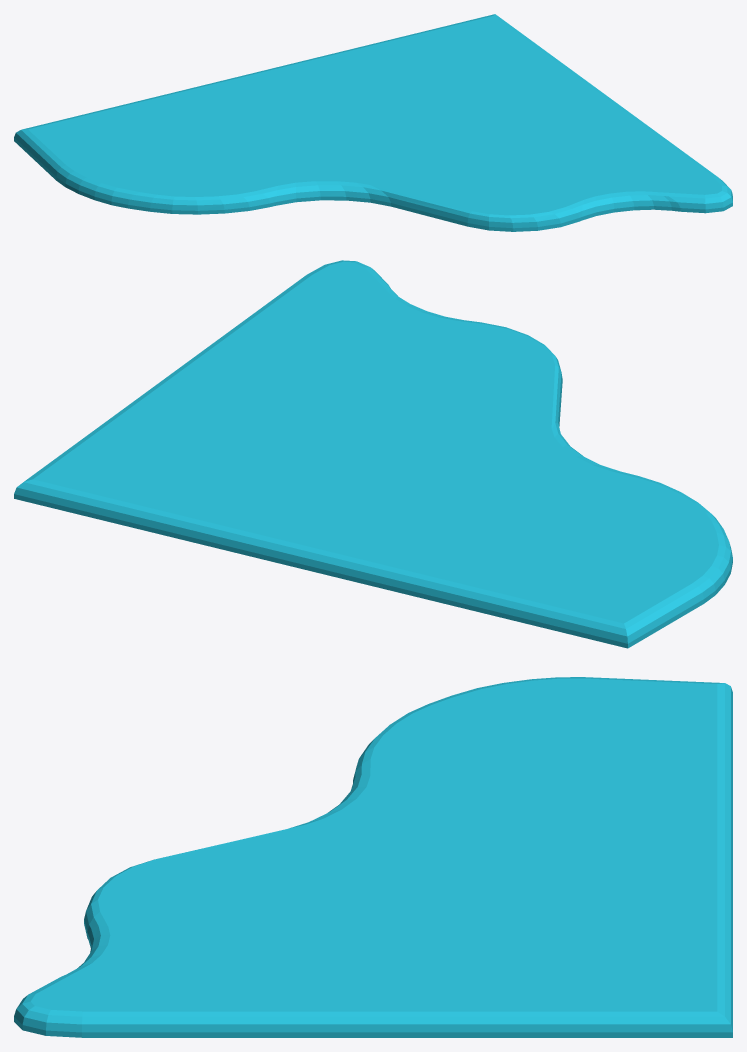
File: water.fbx
3 views of the same model, one above another, from view 1: azimuth 30°, elevation 25°; view 2: azimuth 150°, elevation 25°; view 3: azimuth 270°, elevation 25° (orthographic). The views are drawn at different scales.
Parts seen in each view (by area): view 1: Plane; view 2: Plane; view 3: Plane.
Part boxes in pixels (x1,y1,x2,y2): Plane: (14,14,732,231); Plane: (14,260,732,648); Plane: (14,677,732,1037).
Size of the model in its own units: 367 by 9.7 by 322.
